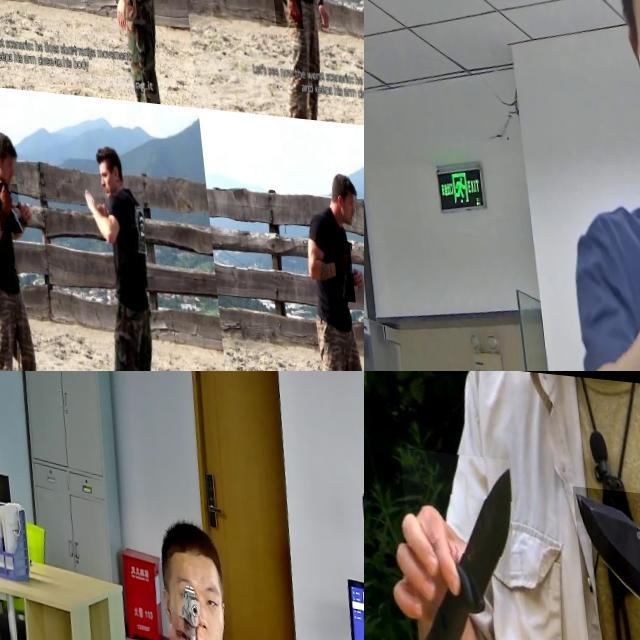-: (397, 446, 528, 640), (570, 480, 640, 640), (323, 230, 345, 293), (268, 0, 298, 21), (0, 179, 12, 230), (0, 0, 15, 20)
gun-knife-thesis - v11 Yolov5 augmented: (168, 570, 201, 640)
